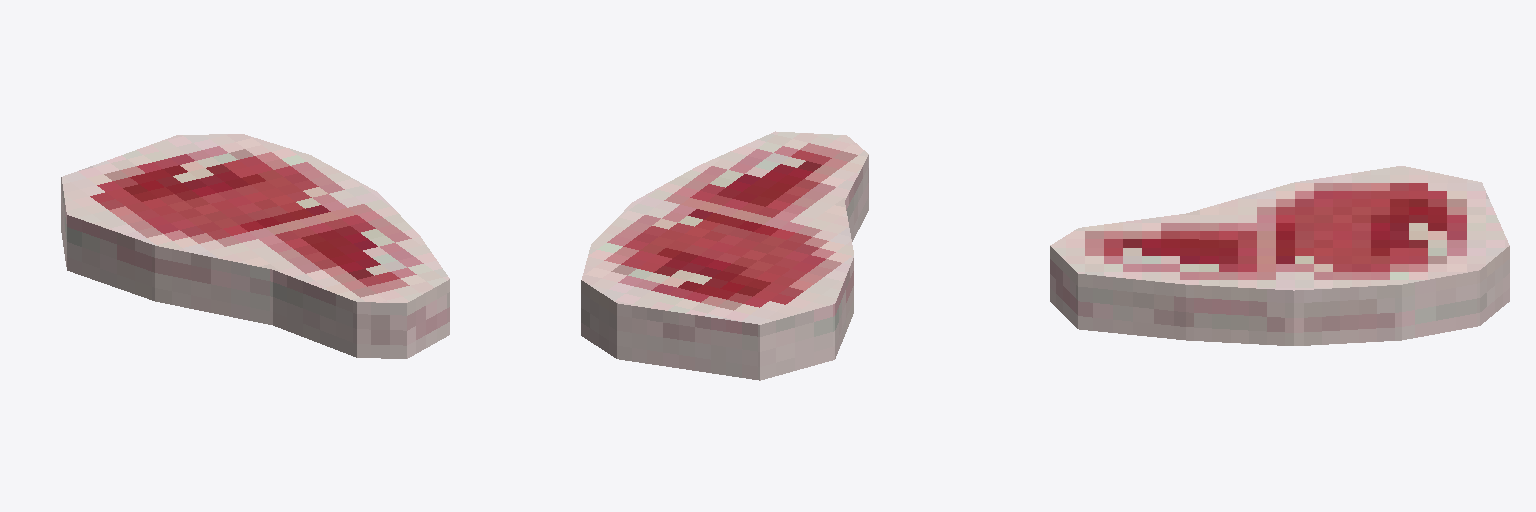
The picture shows the model from 3 angles: view 1: azimuth 30°, elevation 25°; view 2: azimuth 150°, elevation 25°; view 3: azimuth 270°, elevation 25°; orthographic projection.
Parts seen in each view (by area): view 1: pCube42; view 2: pCube42; view 3: pCube42.
Part boxes in pixels (x1,y1,x2,y2): pCube42: (61, 134, 449, 358); pCube42: (581, 131, 868, 380); pCube42: (1050, 166, 1509, 345).
Bounding box in the file's own units: 0.3388 × 0.0706 × 0.5264.
1 materials, 1 textured.